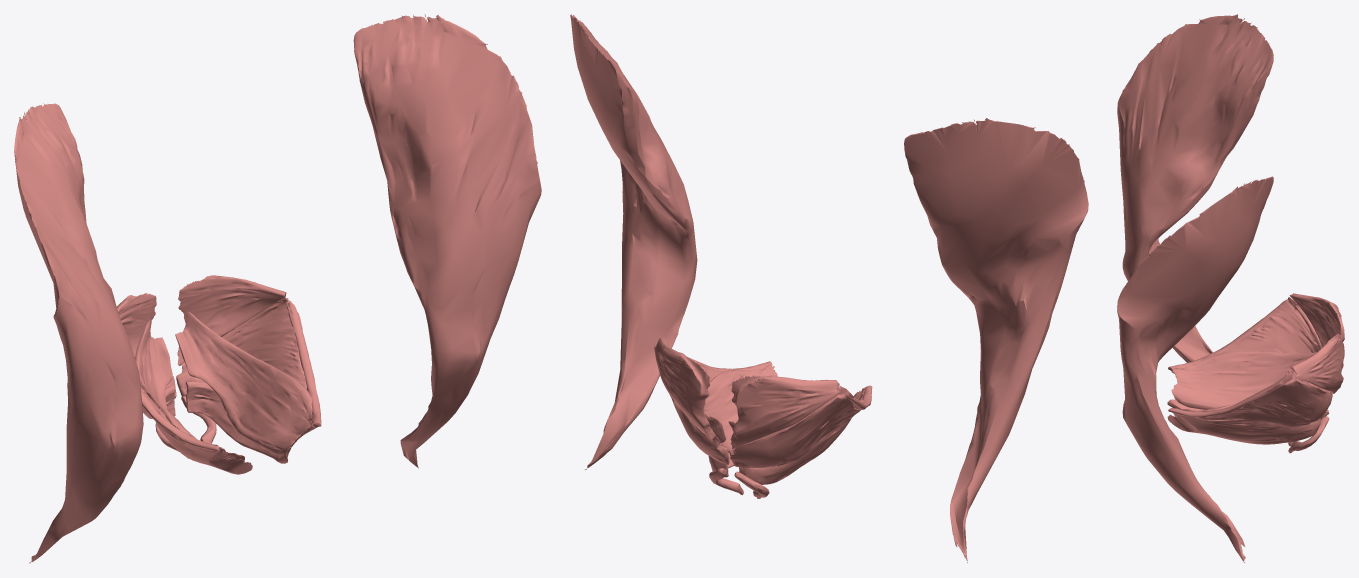
The model's file is muscles-bassin.hi.glb.
The picture shows the model from 3 angles, left to right: view 1: azimuth 30°, elevation 25°; view 2: azimuth 150°, elevation 25°; view 3: azimuth 270°, elevation 25°; orthographic projection. The views are drawn at different scales.
Parts seen in each view (by area): view 1: FJ1422M, FJ1422, FJ2545, FJ2542, FJ2544, FJ2550, FJ2546, FJ2551, FJ2547, FJ2552, FJ2553; view 2: FJ1422, FJ1422M, FJ2547, FJ2549, FJ2542, FJ2545, FJ2551, FJ2544; view 3: FJ1422, FJ1422M, FJ2550, FJ2544, FJ2549, FJ2546, FJ2542, FJ2547, FJ2552, FJ2553, FJ2543, FJ2551.
Boxes of the visible parts, x1,y1,x2,y2 form: FJ1422M: (353, 14, 541, 468); FJ1422: (14, 103, 143, 563); FJ2545: (175, 311, 312, 455); FJ2542: (177, 275, 288, 365); FJ2544: (176, 298, 306, 396); FJ2550: (134, 320, 244, 460); FJ2546: (186, 381, 316, 463); FJ2551: (155, 385, 288, 474); FJ2547: (117, 293, 156, 356); FJ2552: (286, 300, 321, 427); FJ2553: (141, 391, 219, 451); FJ1422: (904, 118, 1088, 562); FJ1422M: (570, 14, 697, 469); FJ2547: (730, 375, 839, 448); FJ2549: (729, 383, 861, 467); FJ2542: (654, 338, 721, 444); FJ2545: (703, 369, 777, 452); FJ2551: (739, 387, 865, 484); FJ2544: (669, 365, 729, 464); FJ1422: (1117, 14, 1273, 362); FJ1422M: (1117, 176, 1273, 562); FJ2550: (1171, 351, 1316, 409); FJ2544: (1195, 369, 1332, 427); FJ2549: (1222, 297, 1322, 353); FJ2546: (1167, 408, 1320, 444); FJ2542: (1290, 334, 1344, 393); FJ2547: (1289, 293, 1344, 368); FJ2552: (1168, 373, 1292, 417); FJ2553: (1168, 299, 1289, 371); FJ2543: (1288, 416, 1329, 453); FJ2551: (1167, 365, 1204, 415).
Bounding box in the file's own units: 0.2545 × 0.2242 × 0.1207.
